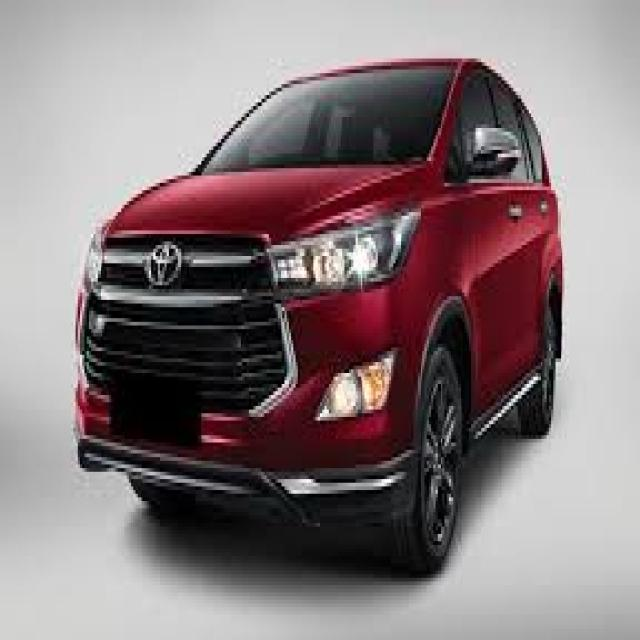light_vehicle: (73, 55, 564, 580)
